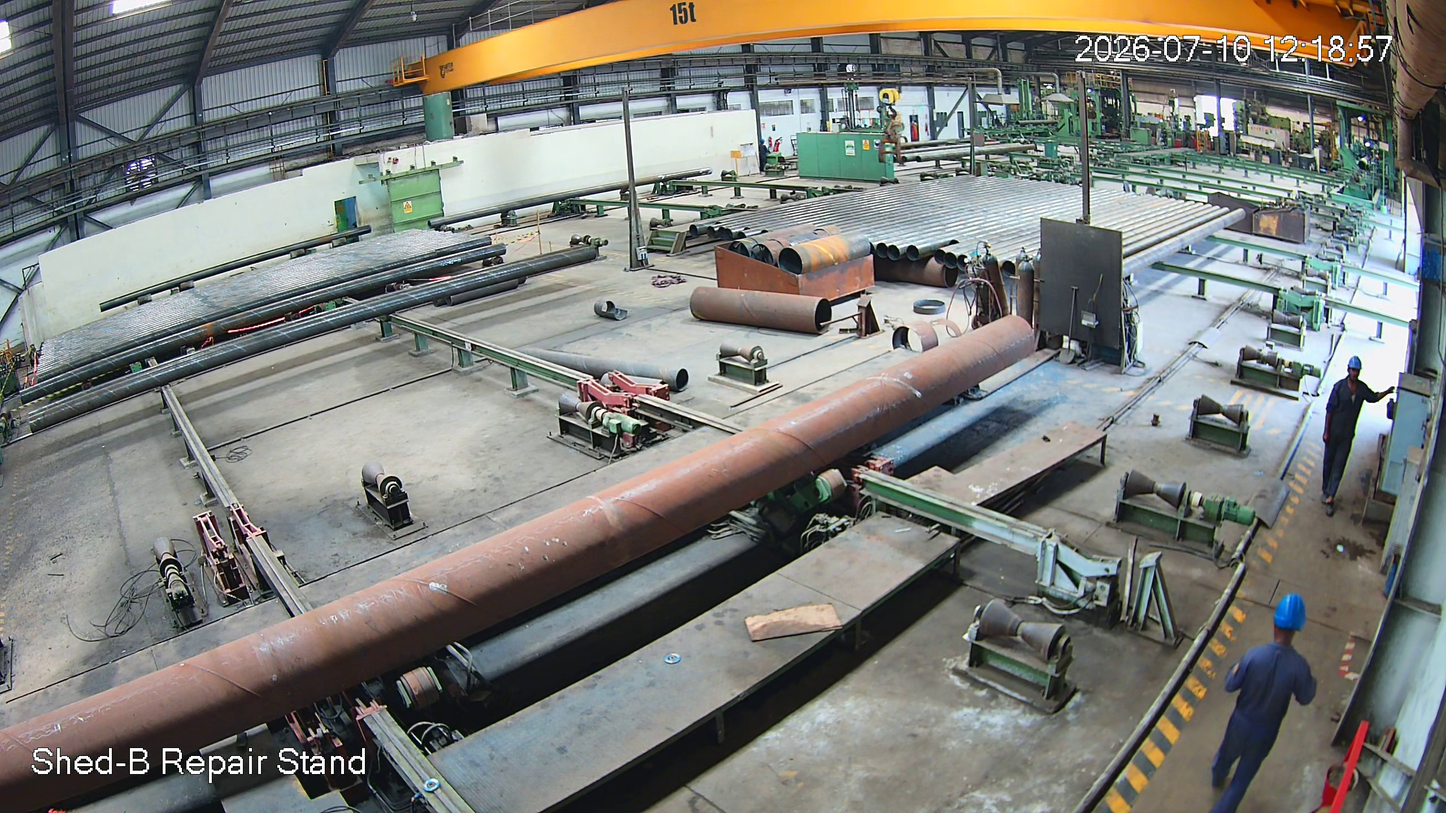Helmet: (1266, 587, 1310, 653), (1338, 345, 1370, 400)
Person: (1201, 589, 1317, 810), (1309, 353, 1373, 527)
